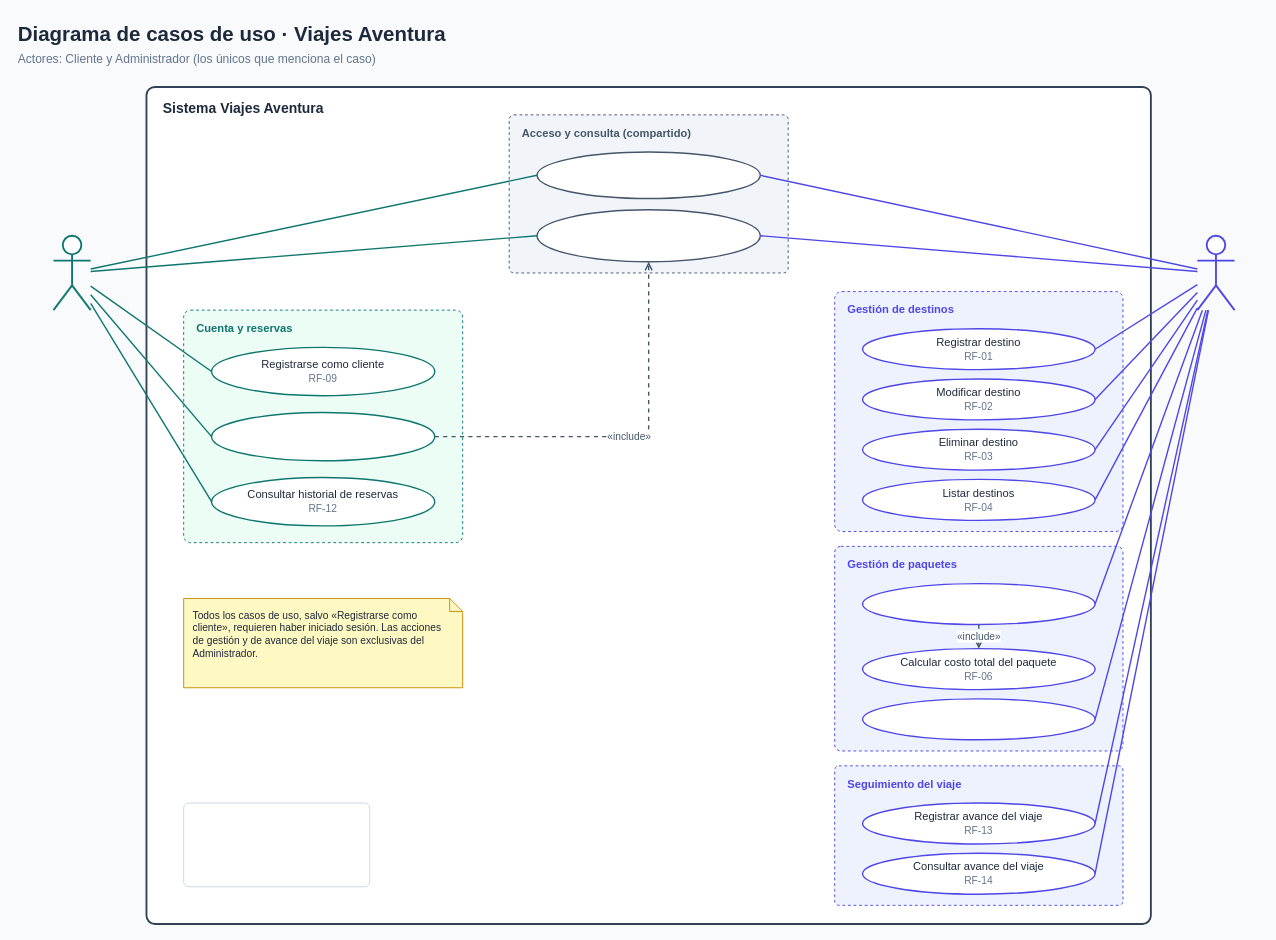
Some shapes in this 1276 by 940 pixel diagram are drawn without their labels. Each missing label, with the centre of its shape:
Administrador: (x=1215, y=272)
Cliente: (x=71, y=272)
Consultar disponibilidad de paquetes RF-08: (x=648, y=235)
Crear paquete RF-05: (x=978, y=603)
Iniciar sesión RF-10: (x=648, y=175)
Leyenda ━━ Cliente ━━ Administrador ╌╌▷ Relación «include»: (x=276, y=844)
Modificar o eliminar paquete RF-07: (x=978, y=719)
Reservar paquete RF-11: (x=322, y=436)
